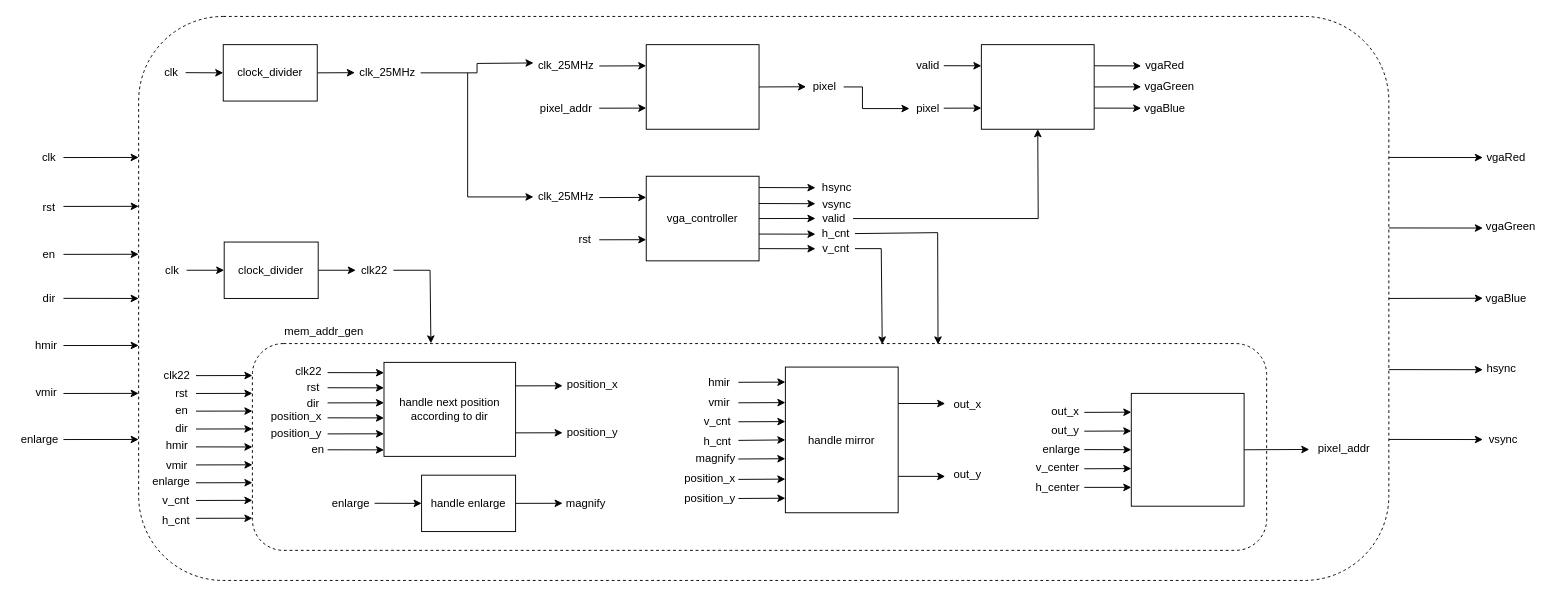
Image size: 1555x597. Some labels were removed from this diagram. Here are the shapes that lost their labels. From the top down, the centre of each, then its label:
At point (702, 86): "blk_mem_gen_0".
At point (1037, 86): "output port".
At point (1187, 449): "output pixel addr".
